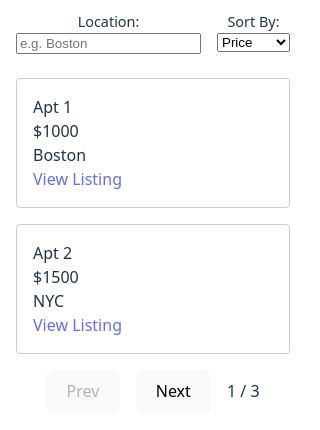
Test: App › resets to page 1 when the location query changes while viewing page 2
This screenshot has width=320, height=430.
Click the button "Next". click: {"x": 173, "y": 391}
box: left=136, top=370, right=211, bottom=413
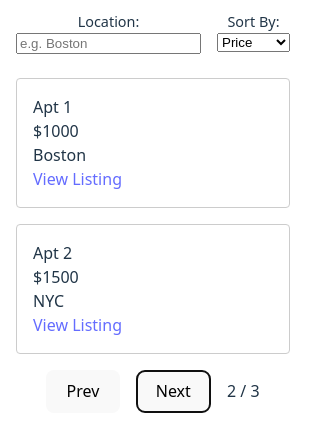
Expected: the text "2 / 3" is shown, left=227, top=379, right=260, bottom=403
Type "B" into the field with placeholder "e.g. Boston". click: {"x": 108, "y": 43}
box: left=16, top=33, right=201, bottom=54
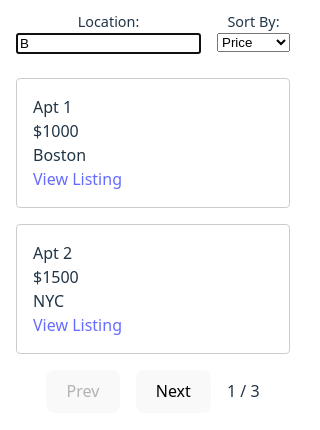
Expected: the text "1 / 3" is shown, left=227, top=379, right=260, bottom=403
